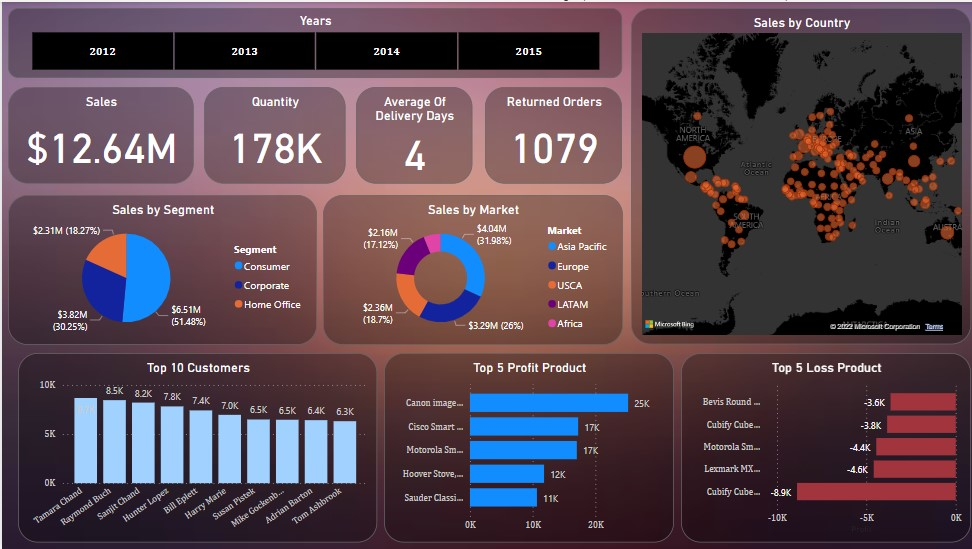

What the dashboard file says about the page in this screenshot:
{"tool":"powerbi","page":{"name":"Page 1","canvas":[1280,720],"ordinal":0},"visuals":[{"type":"card","title":"Sales","fields":{"Values":["Sum(Orders.Sales)"]},"box":[8.3,111.5,243.6,126.6],"z":0},{"type":"card","title":"Quantity","fields":{"Values":["Sum(Orders.Quantity)"]},"box":[265.6,111.5,185.8,126.6],"z":1000},{"type":"card","title":"Average Of Delivery Days","fields":{"Values":["Avg(Orders.Delivery Days)"]},"box":[465.2,111.5,152.8,126.6],"z":2000},{"type":"slicer","title":"Years","fields":{"Values":["Orders.Year"]},"box":[8.3,8.3,806.5,92.2],"z":3000},{"type":"card","title":"Returned Orders","fields":{"Values":["Sum(Returns.Return Orders)"]},"box":[634.5,111.5,180.3,126.6],"z":4000},{"type":"map","fields":{"Category":["Orders.Country"],"Size":["Sum(Orders.Sales)"]},"box":[825.8,8.3,447.3,441.8],"z":5000},{"type":"clusteredBarChart","title":"Top 5 Profit Product","fields":{"Category":["Orders.Product Name"],"Y":["Sum(Orders.Profit)"]},"box":[502.4,461.1,381.2,249.1],"z":6000},{"type":"clusteredBarChart","title":"Top 5 Loss Product","fields":{"Category":["Orders.Product Name"],"Y":["Sum(Orders.Profit)"]},"box":[891.9,461.1,381.2,249.1],"z":7000},{"type":"pieChart","fields":{"Category":["Orders.Segment"],"Y":["Sum(Orders.Sales)"]},"box":[8.3,252.9,406,196.8],"z":8000},{"type":"donutChart","fields":{"Y":["Sum(Orders.Sales)"],"Category":["Orders.Market"]},"box":[421.2,252.9,393.6,196.8],"z":9000},{"type":"columnChart","title":"Top 10 Customers","fields":{"Category":["Orders.Customer Name"],"Y":["Sum(Orders.Profit)"]},"box":[20.6,461.1,472.1,249.1],"z":10000}]}

Visuals, with their boxes in screenshot pixels (x1, y1, x2, y2), scaled from the page's 1280x720 canvas onto the 972x549 screenshot:
"Sales" card: detection(6, 85, 191, 182)
"Quantity" card: detection(202, 85, 343, 182)
"Average Of Delivery Days" card: detection(353, 85, 469, 182)
"Years" slicer: detection(6, 6, 619, 77)
"Returned Orders" card: detection(482, 85, 619, 182)
map - Orders.Country x Sum(Orders.Sales): detection(627, 6, 967, 343)
"Top 5 Profit Product" clusteredBarChart: detection(382, 352, 671, 542)
"Top 5 Loss Product" clusteredBarChart: detection(677, 352, 967, 542)
pieChart - Orders.Segment x Sum(Orders.Sales): detection(6, 193, 315, 343)
donutChart - Sum(Orders.Sales) x Orders.Market: detection(320, 193, 619, 343)
"Top 10 Customers" columnChart: detection(16, 352, 374, 542)
